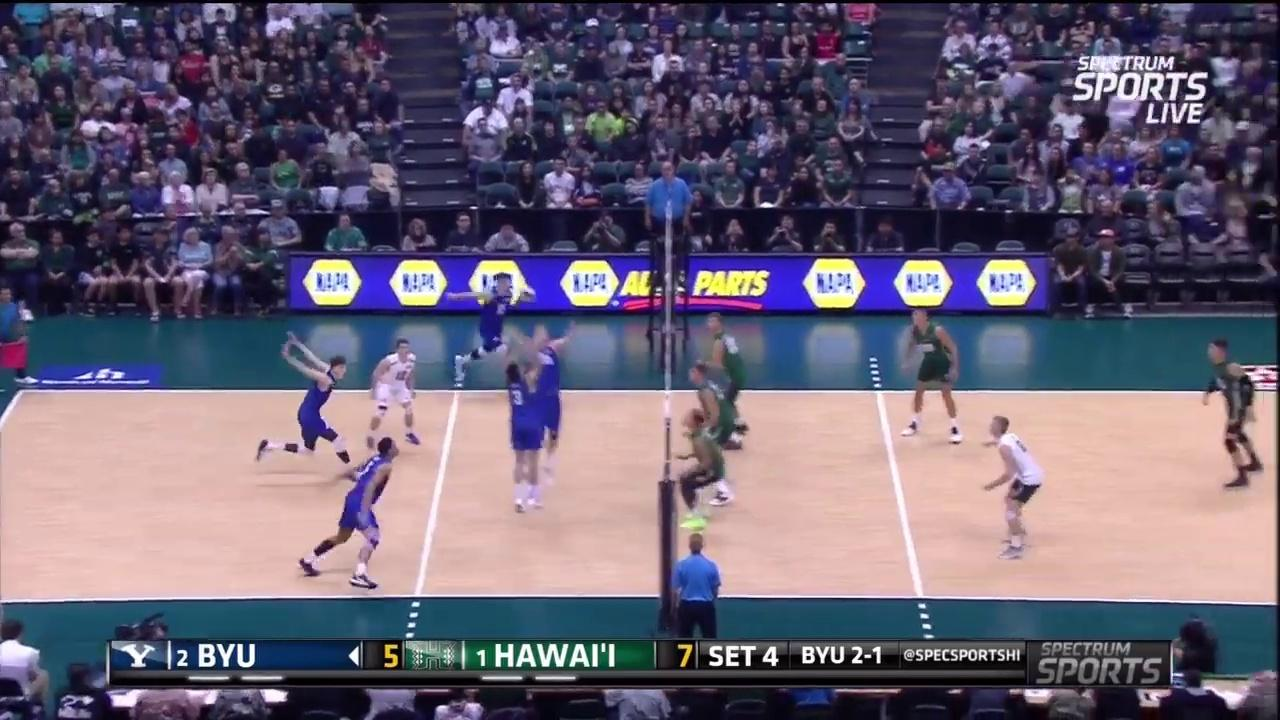player: (309, 437, 401, 598), (1202, 340, 1272, 486), (982, 418, 1043, 558), (684, 359, 741, 505), (521, 311, 566, 491), (495, 354, 545, 515), (283, 331, 347, 456), (901, 308, 960, 440), (679, 408, 731, 544), (454, 273, 518, 378), (701, 312, 749, 443), (369, 341, 421, 447)
refree: (670, 532, 726, 639), (645, 159, 695, 273), (0, 282, 47, 389)
